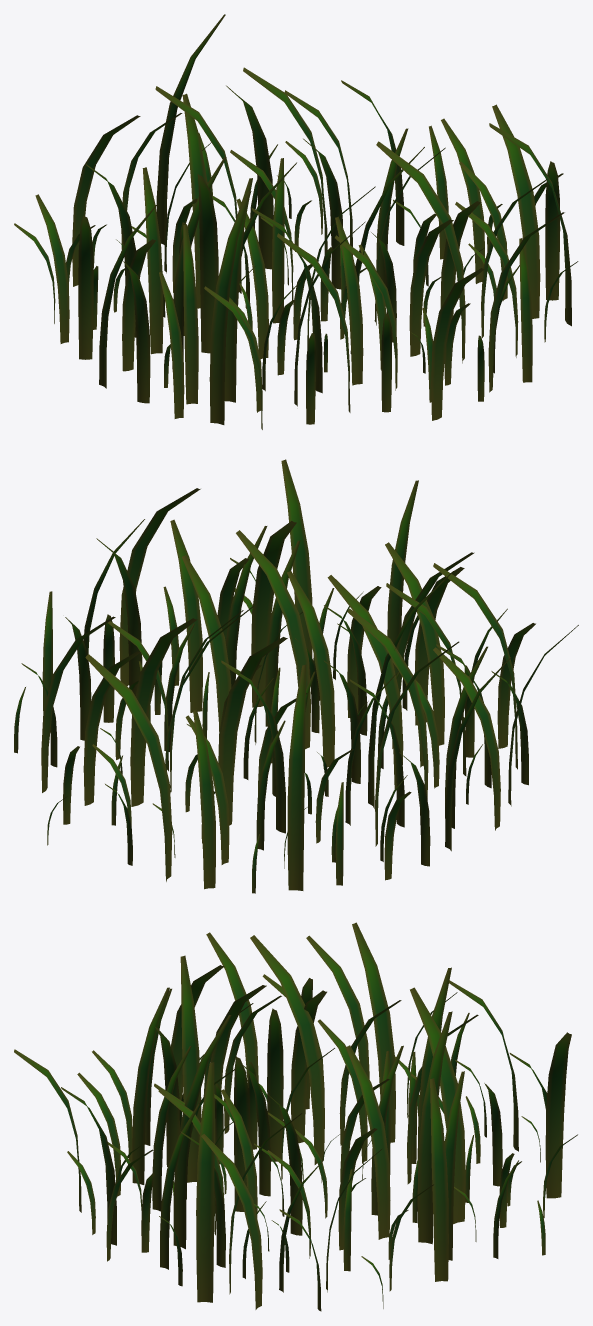
Rendered from SM_Grass_01.fbx.
3 views of the same model, one above another, from view 1: azimuth 30°, elevation 25°; view 2: azimuth 150°, elevation 25°; view 3: azimuth 270°, elevation 25° (orthographic). The views are drawn at different scales.
Visible parts, largest first — view 1: grass; view 2: grass; view 3: grass.
Part boxes in pixels (box(x1,y1,x2,y2)): grass: box(14, 14, 578, 429); grass: box(14, 459, 578, 893); grass: box(14, 922, 577, 1311).
Bounding box in the file's own units: 107 × 46.22 × 115.
